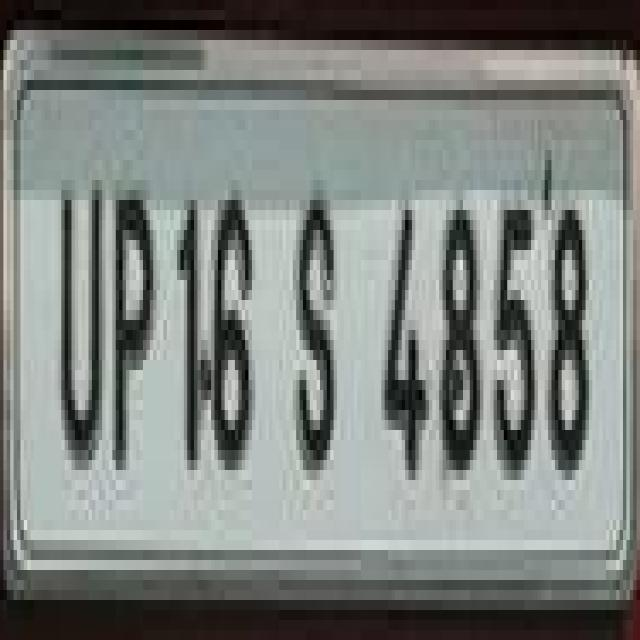plate: (3, 80, 610, 600)
